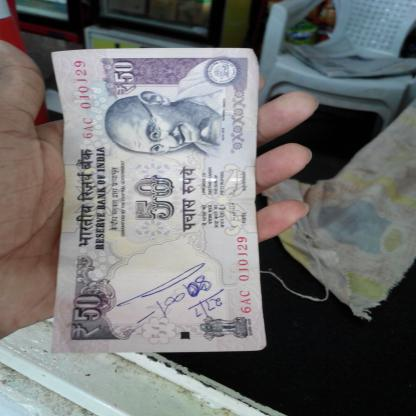Old50Front: (51, 48, 266, 354)
